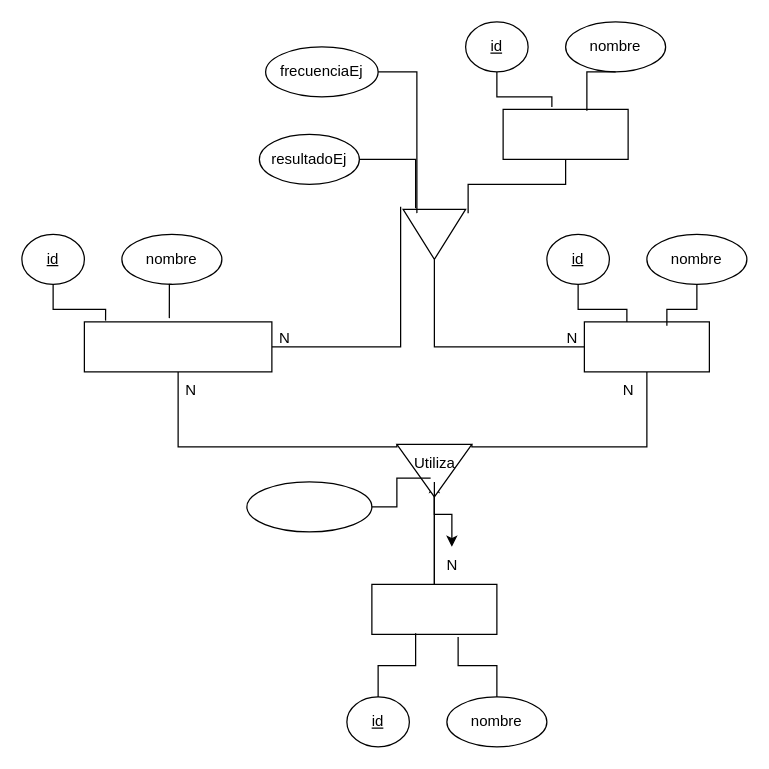
This 769x769 diagram has some shape labels left out. The centre of each missing label's shape, as x and y in pixels:
"Accede" goes at [434,233].
"ARCHIVO" goes at [434,608].
"ModoAcceso" goes at [309,506].
"PROGRAMA" goes at [646,346].
"SISTEMA BATCH" goes at [177,346].
"USUARIO" goes at [565,133].
